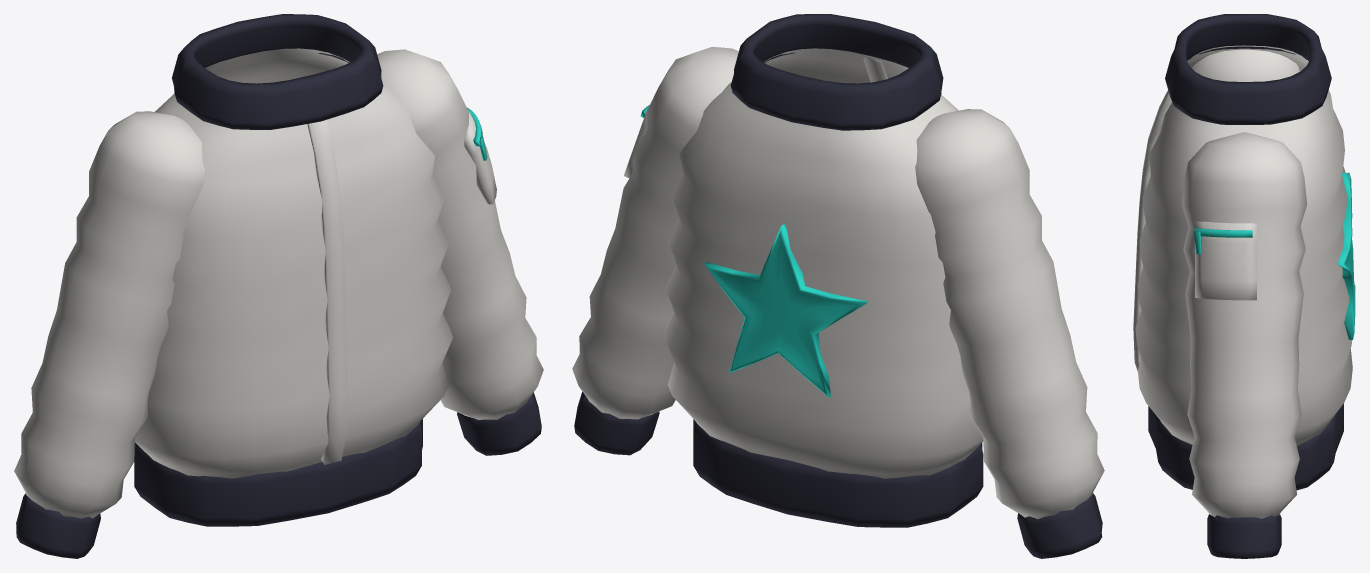
File: jacket_white.glb
3 views of the same model, side by side, from view 1: azimuth 30°, elevation 25°; view 2: azimuth 150°, elevation 25°; view 3: azimuth 270°, elevation 25° (orthographic). The views are drawn at different scales.
Visible parts, largest first — view 1: Torso, Sleeve_R, Sleeve_L, Collar, Waistband, ZipPlacket, Cuff_R, Cuff_L, SleevePocket; view 2: Torso, Sleeve_R, Sleeve_L, Collar, Waistband, BackPatch_Star, Cuff_R, Cuff_L; view 3: Sleeve_L, Torso, Collar, SleevePocket, Waistband, Cuff_L, Sleeve_R, ZipPlacket, BackPatch_Star, SleevePocket_Zipper.
Boxes of the visible parts, bbox=[...] form: Torso: bbox=[135, 48, 452, 478]; Sleeve_R: bbox=[14, 111, 204, 518]; Sleeve_L: bbox=[377, 49, 543, 419]; Collar: bbox=[172, 14, 383, 129]; Waistband: bbox=[134, 419, 422, 526]; ZipPlacket: bbox=[307, 119, 347, 464]; Cuff_R: bbox=[16, 493, 100, 558]; Cuff_L: bbox=[457, 392, 541, 455]; SleevePocket: bbox=[464, 111, 496, 204]; Torso: bbox=[663, 48, 983, 478]; Sleeve_R: bbox=[915, 109, 1104, 518]; Sleeve_L: bbox=[572, 46, 738, 419]; Collar: bbox=[730, 14, 943, 130]; Waistband: bbox=[693, 419, 983, 527]; BackPatch_Star: bbox=[704, 223, 867, 397]; Cuff_R: bbox=[1017, 493, 1102, 558]; Cuff_L: bbox=[574, 392, 659, 455]; Sleeve_L: bbox=[1182, 132, 1307, 518]; Torso: bbox=[1135, 45, 1352, 445]; Collar: bbox=[1165, 14, 1331, 124]; SleevePocket: bbox=[1195, 221, 1256, 300]; Waistband: bbox=[1148, 403, 1343, 490]; Cuff_L: bbox=[1207, 514, 1281, 558]; Sleeve_R: bbox=[1188, 49, 1299, 81]; ZipPlacket: bbox=[1133, 90, 1171, 371]; BackPatch_Star: bbox=[1337, 172, 1355, 339]; SleevePocket_Zipper: bbox=[1194, 228, 1252, 237].
Bounding box in the file's own units: 0.8603 × 0.708 × 0.3465.
